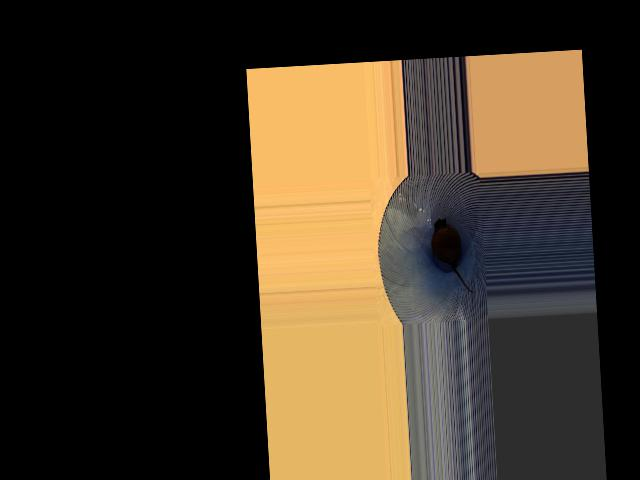beet: (430, 216, 473, 294)
